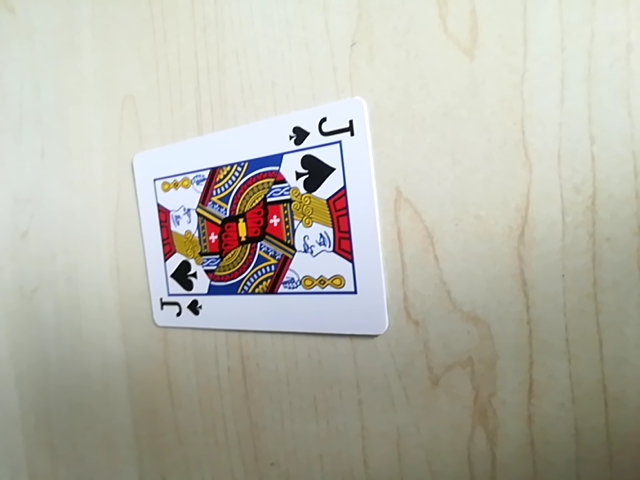ht j: (284, 113, 359, 152), (152, 285, 206, 325)
